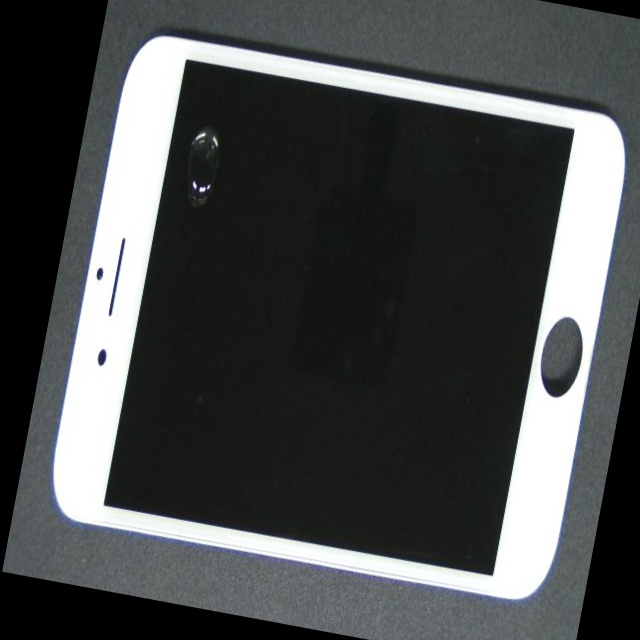oil: (133, 89, 300, 294)
